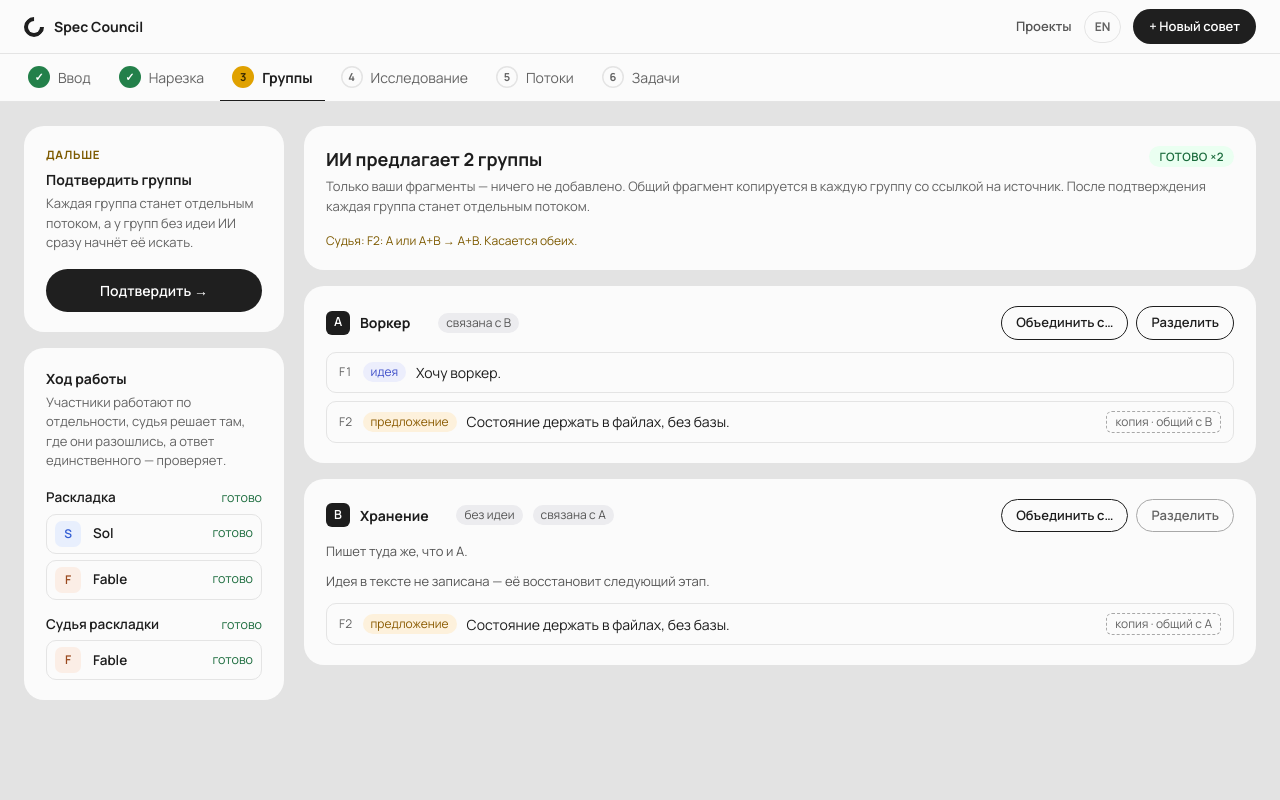
Test: Подтверждение групп и потоки › группы поменяли в другой вкладке (409) — ошибка у кнопки, видны нынешние, экран на месте
The width and height of the screenshot is (1280, 800).
Click the button "Подтвердить →": [154, 290] box top-left (46, 269), bottom-right (262, 312)
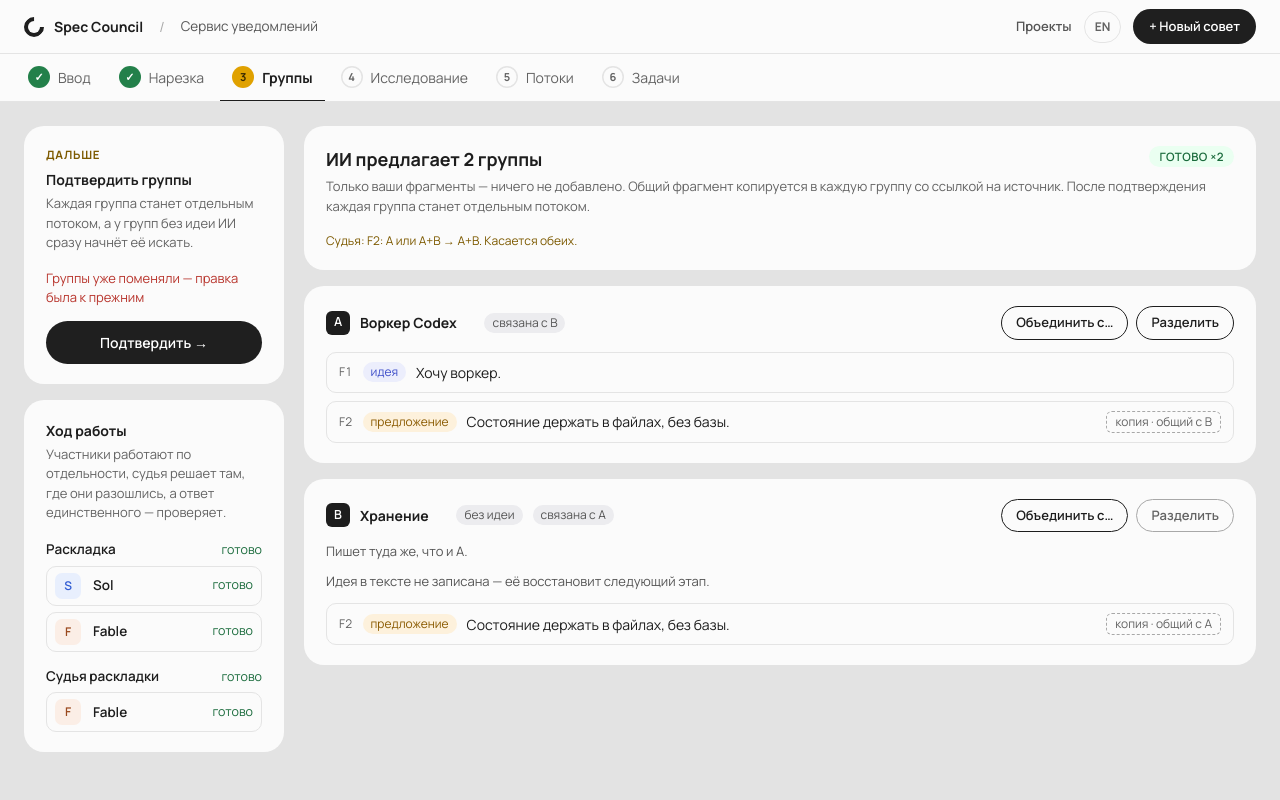
Expected: the message reads "Группы уже поменяли — правка была к прежним", top-left (46, 269), bottom-right (238, 306)
Expected: the element "Воркер Codex" is shown, top-left (304, 286), bottom-right (1256, 462)
Expected: the number of messages is 1, top-left (46, 269), bottom-right (262, 308)
